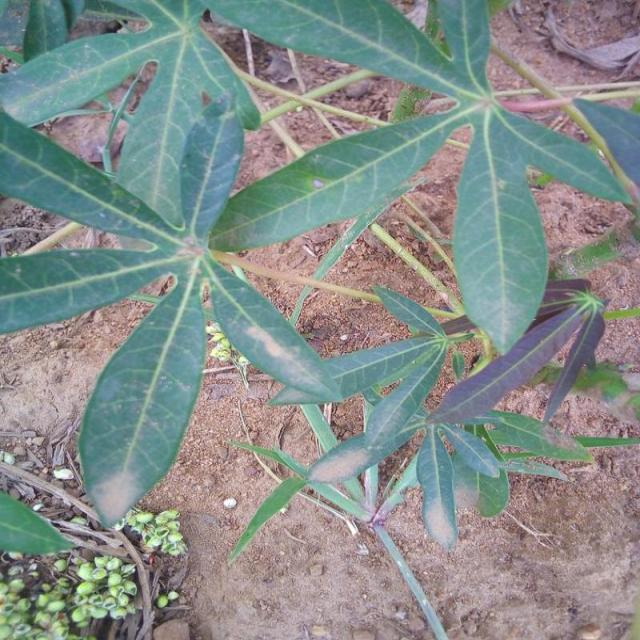cassava leaf: (2, 0, 638, 557), (78, 258, 207, 530), (452, 105, 550, 355)
